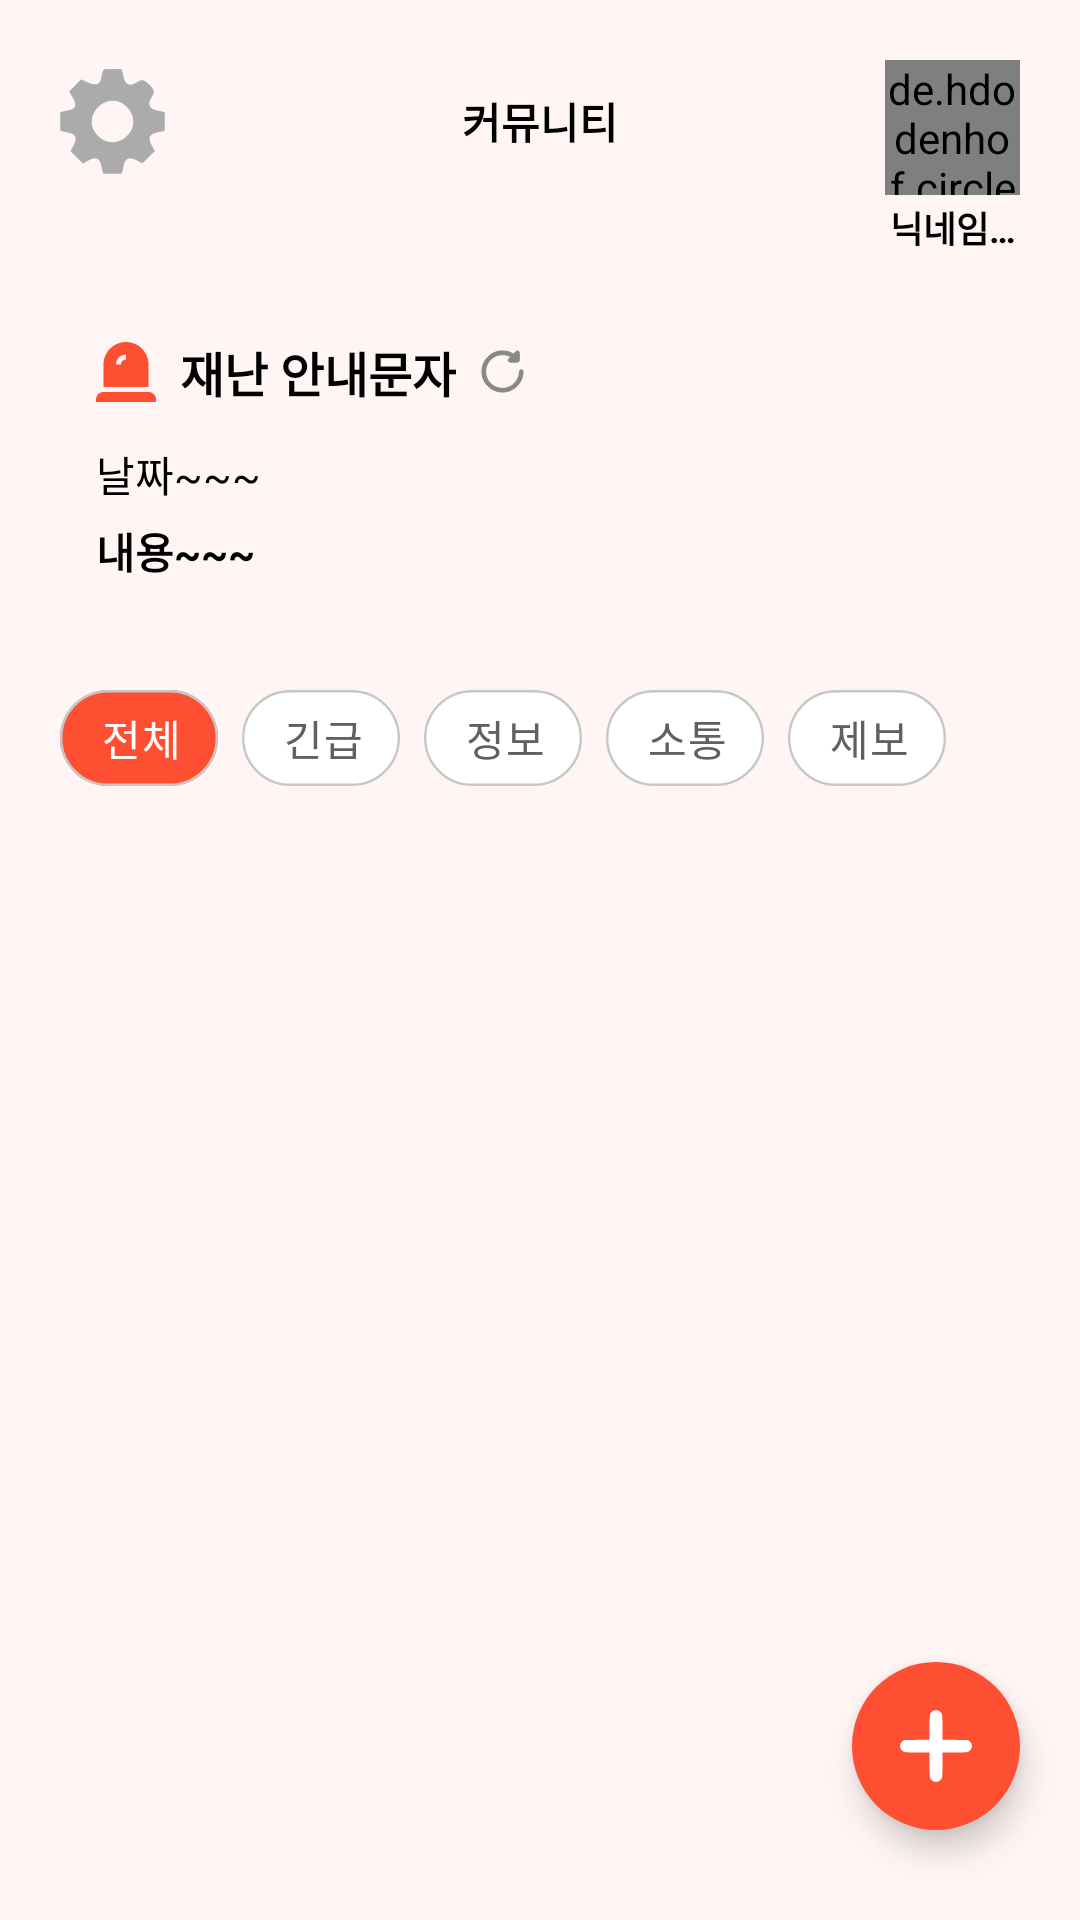

Locate icon controls on the screen. Image size 1080 x 1920, boxes as rect(x1, y1, x2, y2).
plus: rect(852, 1662, 1020, 1830)
setting: rect(60, 69, 165, 174)
로딩 아이콘: rect(481, 350, 524, 393)
안전 아이콘: rect(96, 342, 156, 402)
